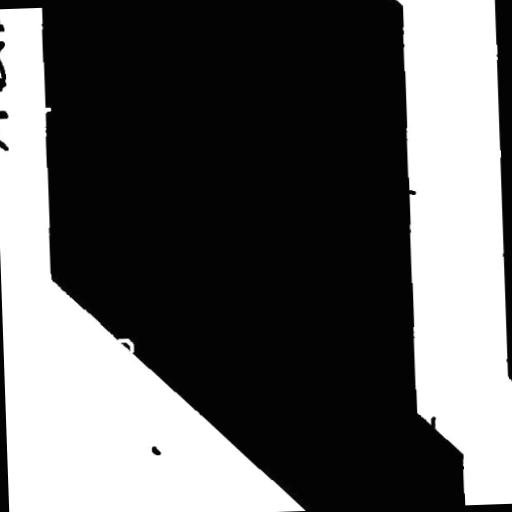copper: (143, 438, 168, 462)
mousebite: (109, 330, 141, 360), (34, 98, 58, 120)
spur: (422, 408, 444, 436), (398, 181, 424, 202)
